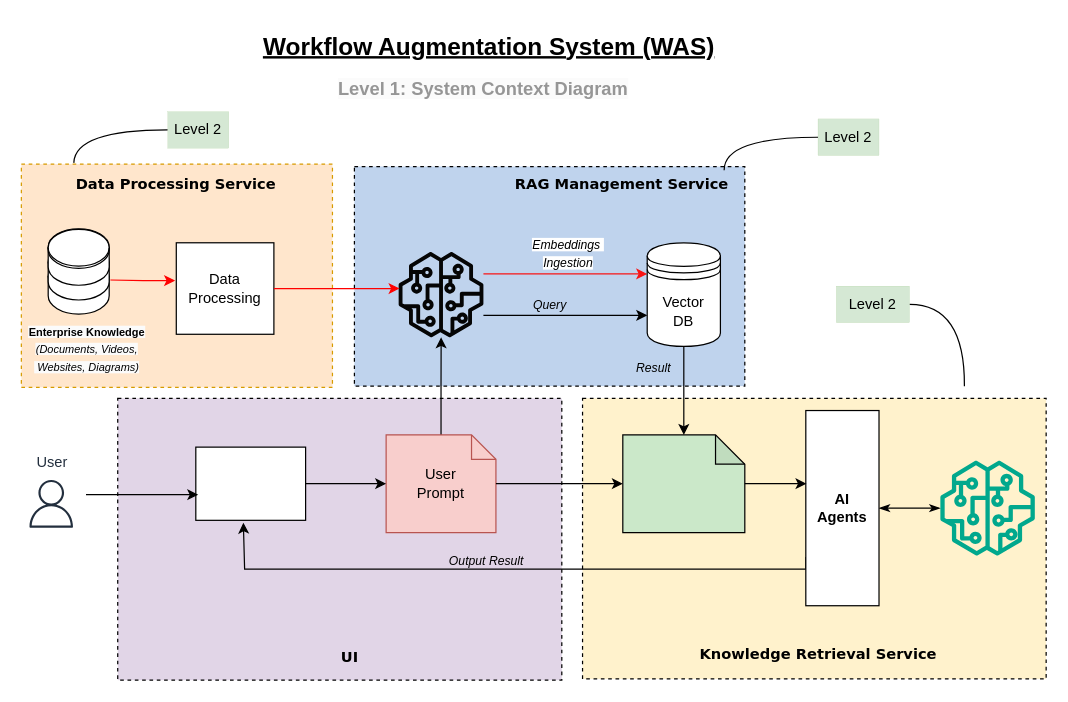
This 1068x702 diagram has some shape labels left out. The centre of each missing label's shape, as x and y in pixels:
"Application" belongs at (250,483).
"Augumented Prompt" belongs at (683,483).
"Embeddings Model" belongs at (440,294).
"LLM" belongs at (987,507).
